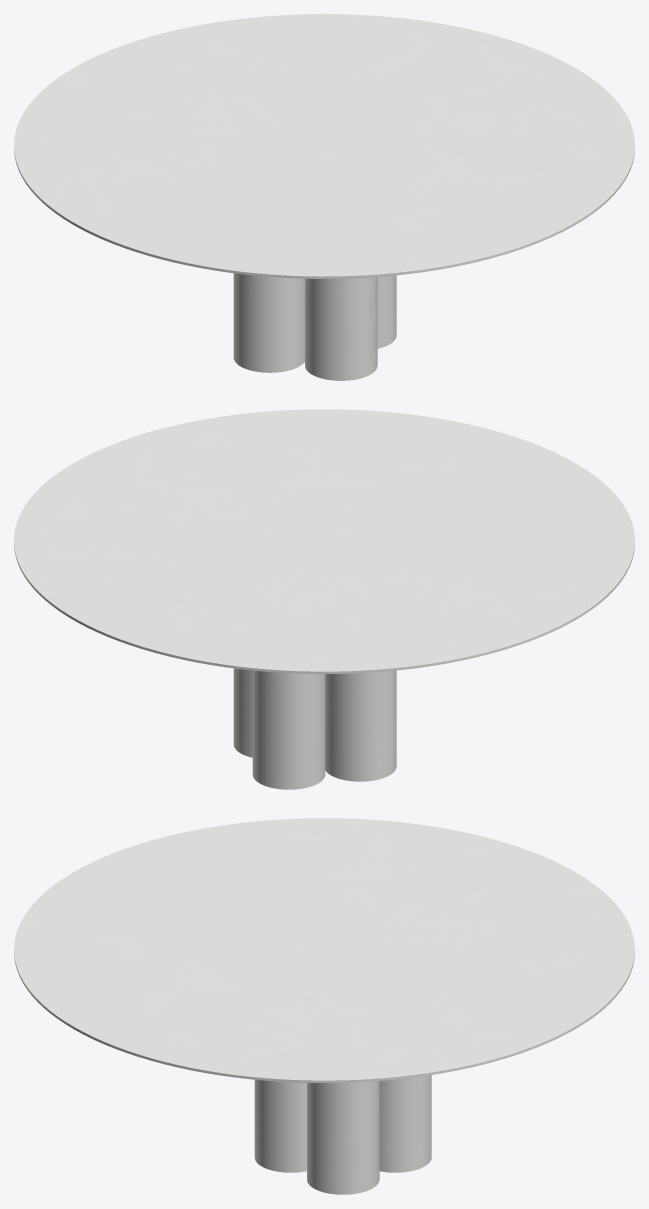
The model's file is purewhite_round_facet_secondtable.glb.
The picture shows the model from 3 angles, top to bottom: view 1: azimuth 30°, elevation 25°; view 2: azimuth 150°, elevation 25°; view 3: azimuth 270°, elevation 25°; orthographic projection.
Parts seen in each view (by area): view 1: facet_round, secondtable; view 2: facet_round, secondtable; view 3: facet_round, secondtable.
Boxes of the visible parts, <box> form: facet_round: <box>14,14,634,278</box>; secondtable: <box>233,273,396,380</box>; facet_round: <box>14,409,634,673</box>; secondtable: <box>233,668,396,789</box>; facet_round: <box>14,818,634,1082</box>; secondtable: <box>254,1075,431,1194</box>.
Bounding box in the file's own units: 6.75 × 2.49 × 6.75.
1 material, 1 textured.
